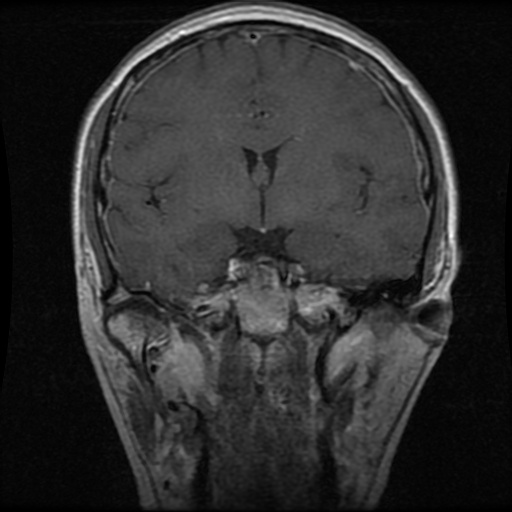pituitary: (227, 259, 280, 284)
